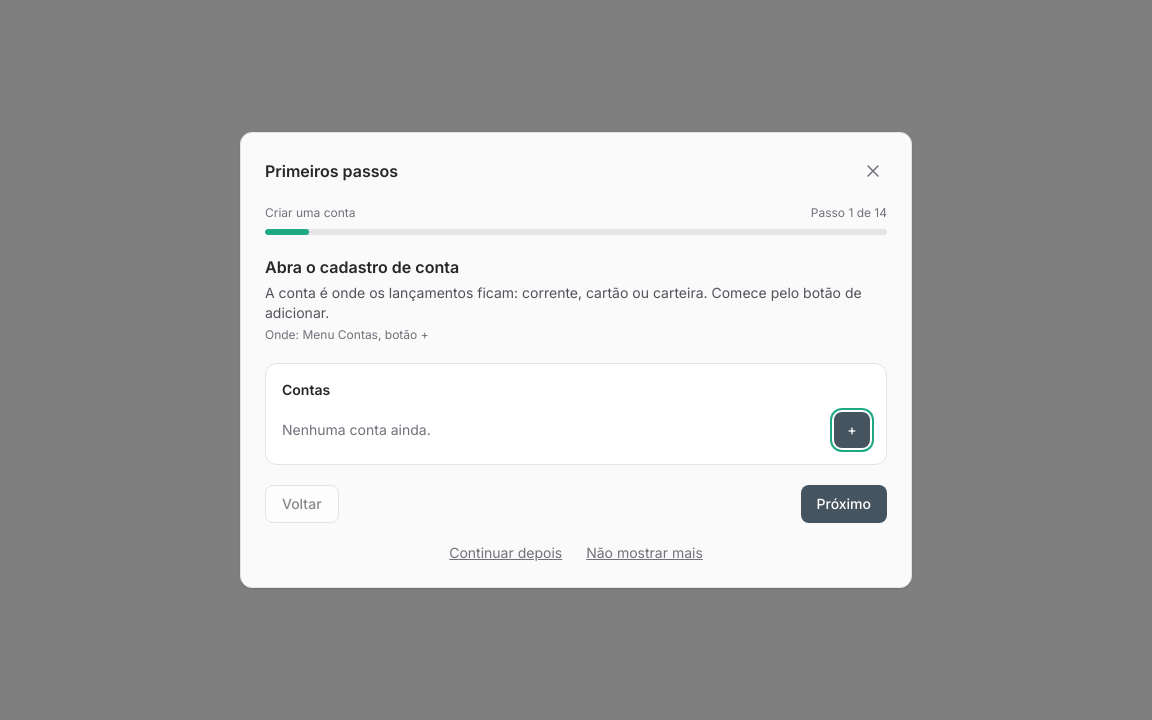
Scenario: OnboardingModal tour › stays on the step and warns when the progress cannot be saved
The width and height of the screenshot is (1152, 720).
Click the button "Próximo" at (844, 504), box left=800, top=485, right=887, bottom=523
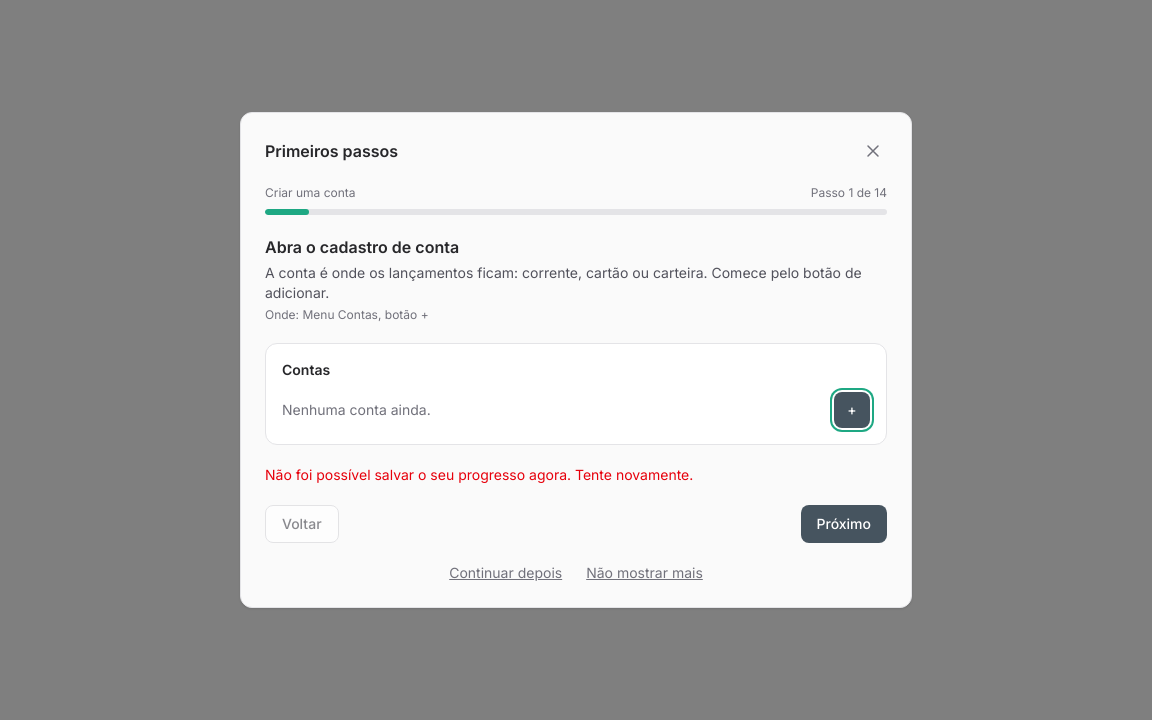
Expected: the text "Passo 1 de 14" is shown, left=811, top=185, right=887, bottom=201
Expected: the message shows "Não foi possível salvar", left=265, top=466, right=693, bottom=483
